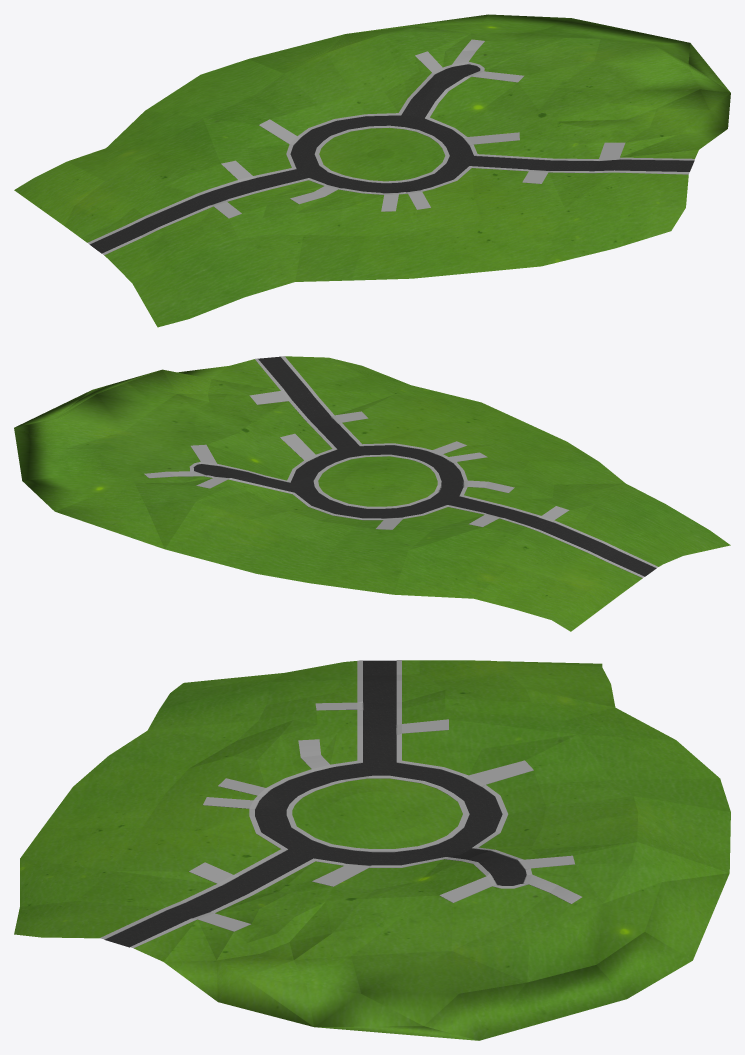
File: level1ENV_Roads_C.fbx
3 renders of one model, top to bottom at view 1: azimuth 30°, elevation 25°; view 2: azimuth 150°, elevation 25°; view 3: azimuth 270°, elevation 25°, orthographic. The views are drawn at different scales.
Visible parts, largest first — view 1: Level1ENV; view 2: Level1ENV; view 3: Level1ENV.
Part boxes in pixels (x1=…): Level1ENV: x1=14, y1=14, x2=730, y2=327; Level1ENV: x1=14, y1=356, x2=730, y2=631; Level1ENV: x1=14, y1=660, x2=730, y2=1040.
Size of the model in its own units: 26168 by 2854 by 18817.
